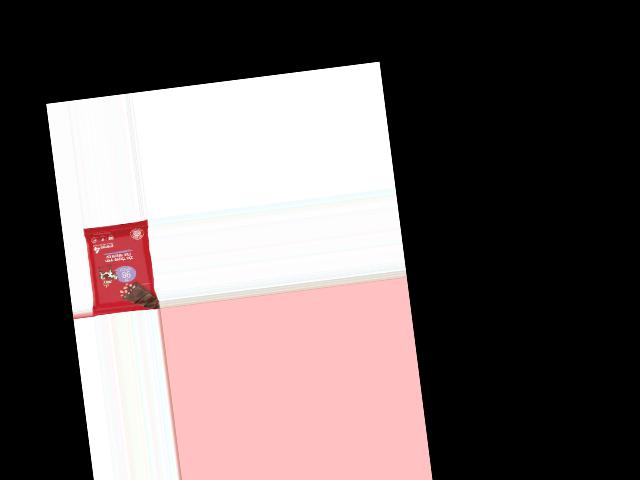chocolate: (82, 219, 157, 316)
